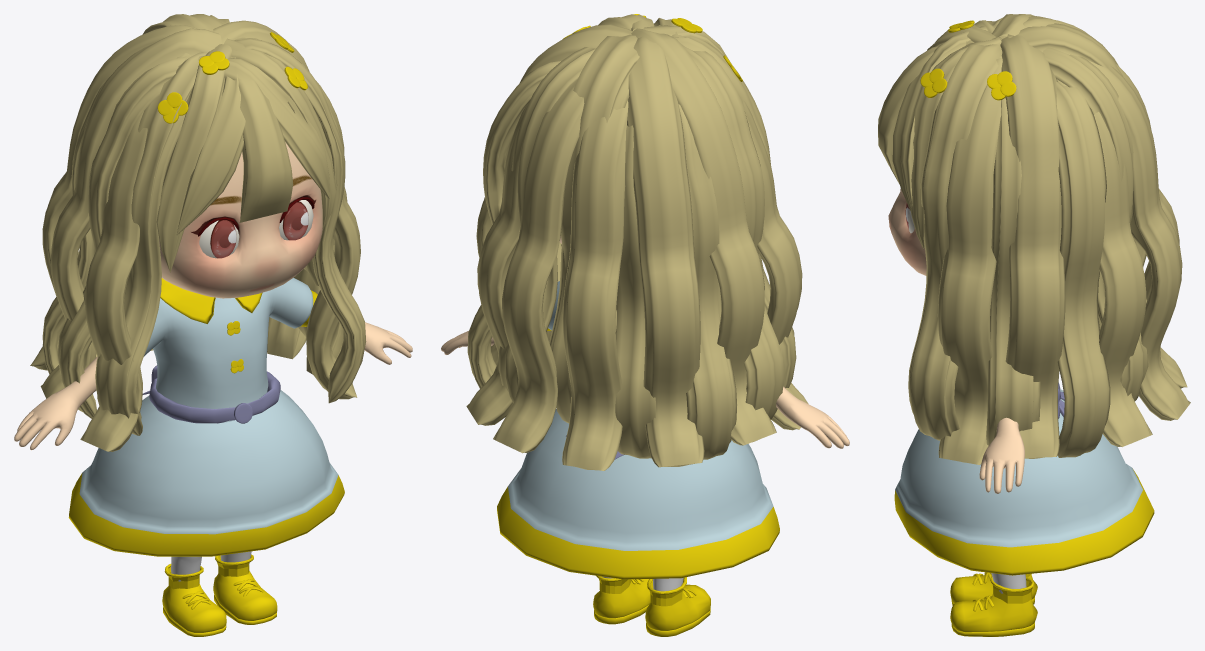
File: Character.fbx
3 renders of one model, left to right at view 1: azimuth 30°, elevation 25°; view 2: azimuth 150°, elevation 25°; view 3: azimuth 270°, elevation 25°, orthographic. The views are drawn at different scales.
Parts seen in each view (by area): view 1: polySurface108, pSphere1, polySurface59, polySurface26, polySurface135, polySurface139, pTorus1, polySurface33, polySurface19, polySurface85, polySurface62, pCylinder13; view 2: polySurface108, pSphere1, polySurface135, polySurface139, polySurface59; view 3: polySurface108, pSphere1, polySurface59, polySurface139, polySurface135, pCylinder15, pCylinder14, polySurface62.
Part boxes in pixels (x1=…): polySurface108: x1=30, y1=14, x2=366, y2=451; pSphere1: x1=68, y1=390, x2=344, y2=556; polySurface59: x1=14, y1=142, x2=412, y2=450; polySurface26: x1=144, y1=278, x2=317, y2=422; polySurface135: x1=162, y1=564, x2=226, y2=636; polySurface139: x1=213, y1=554, x2=277, y2=624; pTorus1: x1=149, y1=371, x2=280, y2=423; polySurface33: x1=160, y1=278, x2=262, y2=323; polySurface19: x1=199, y1=220, x2=239, y2=258; polySurface85: x1=279, y1=200, x2=313, y2=240; polySurface62: x1=171, y1=551, x2=251, y2=581; pCylinder13: x1=157, y1=92, x2=188, y2=123; polySurface108: x1=466, y1=14, x2=808, y2=470; pSphere1: x1=497, y1=409, x2=779, y2=579; polySurface135: x1=645, y1=577, x2=710, y2=636; polySurface139: x1=593, y1=575, x2=650, y2=624; polySurface59: x1=441, y1=236, x2=849, y2=448; polySurface108: x1=878, y1=14, x2=1190, y2=464; pSphere1: x1=894, y1=389, x2=1154, y2=575; polySurface59: x1=888, y1=188, x2=1024, y2=493; polySurface139: x1=950, y1=576, x2=1037, y2=636; polySurface135: x1=950, y1=572, x2=1037, y2=605; pCylinder15: x1=987, y1=71, x2=1016, y2=100; pCylinder14: x1=920, y1=68, x2=947, y2=97; polySurface62: x1=991, y1=573, x2=1026, y2=593.
Size of the model in its own units: 24.57 by 34.61 by 16.62.
